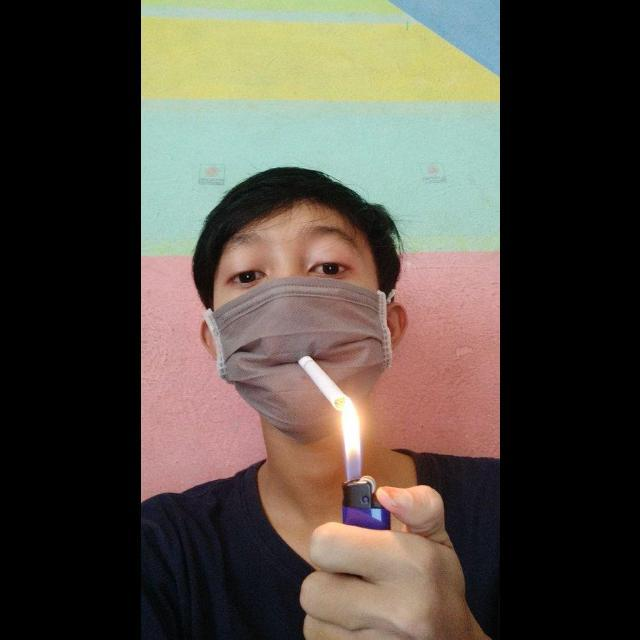rokok: (294, 353, 350, 411)
